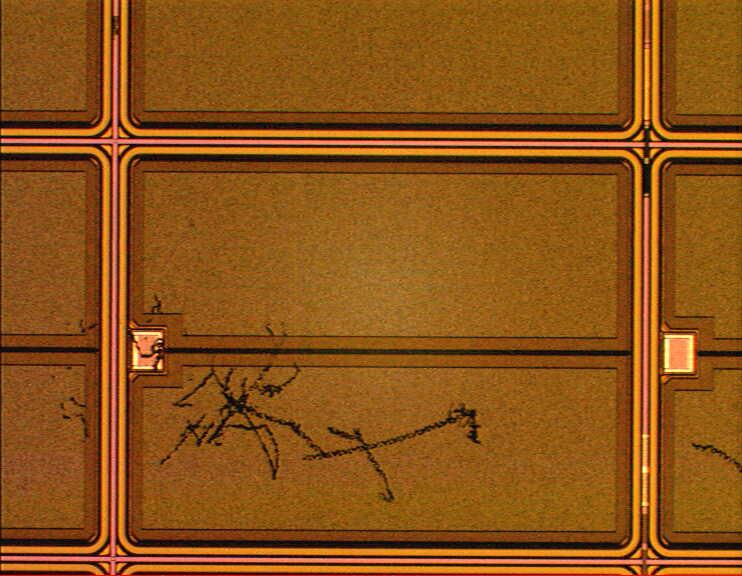SCRATCH: (60, 309, 542, 510)
